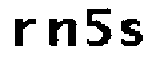5: (82, 5, 115, 53)
n: (46, 16, 79, 52)
r: (12, 15, 38, 52)
s: (116, 16, 146, 53)
